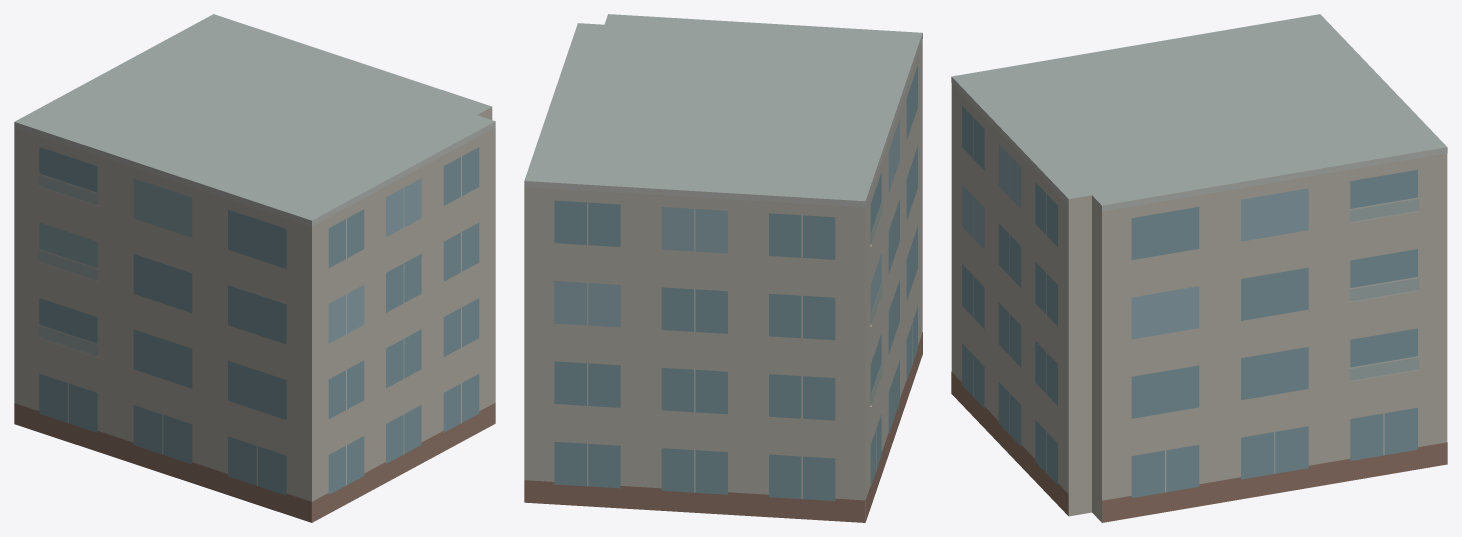
The model's file is survey-upis-32829044.glb.
The picture shows the model from 3 angles, left to right: view 1: azimuth 30°, elevation 25°; view 2: azimuth 150°, elevation 25°; view 3: azimuth 270°, elevation 25°; orthographic projection. The views are drawn at different scales.
Visible parts, largest first — view 1: survey-upis-32829044.tmp; view 2: survey-upis-32829044.tmp; view 3: survey-upis-32829044.tmp.
Part boxes in pixels (x1,y1,x2,y2): survey-upis-32829044.tmp: [14, 14, 495, 522]; survey-upis-32829044.tmp: [524, 14, 922, 522]; survey-upis-32829044.tmp: [951, 14, 1447, 522].
Bounding box in the file's own units: 16.6 × 12.8 × 18.15.
